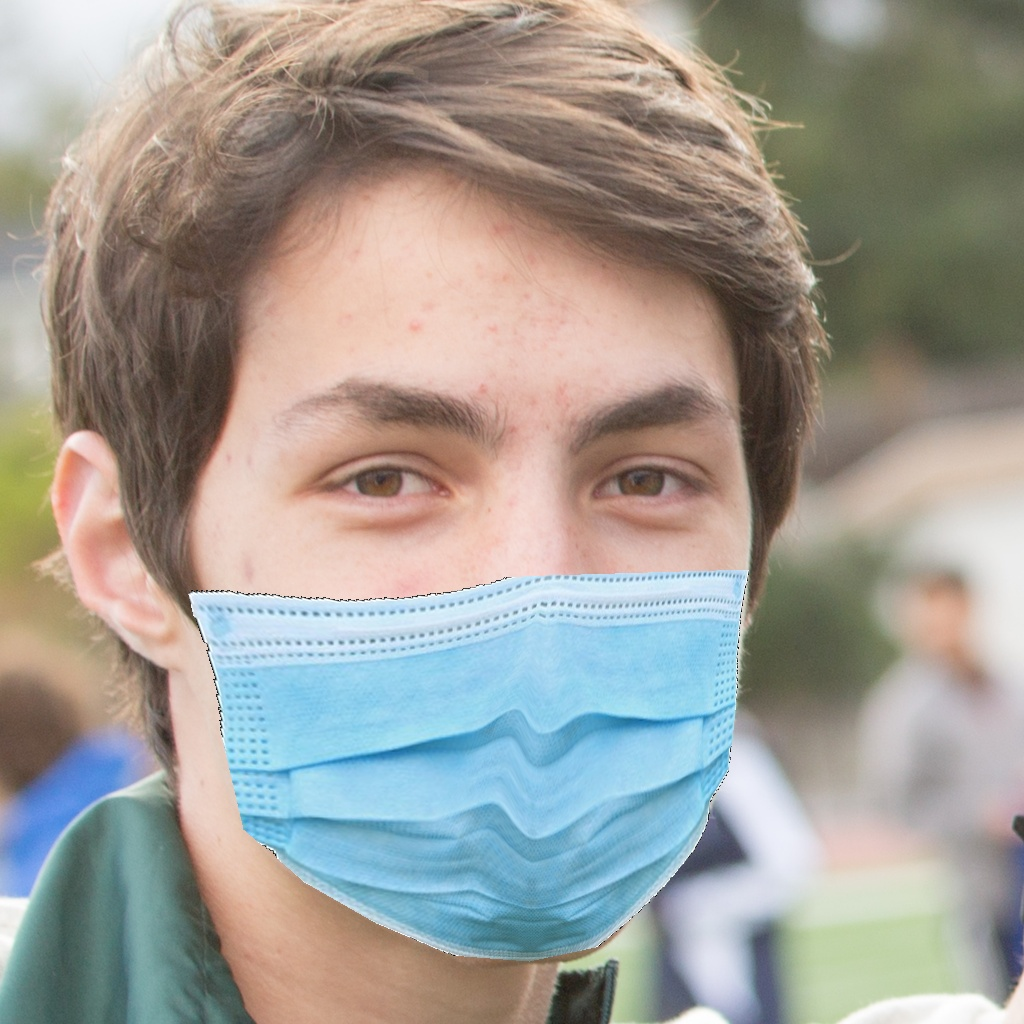with_mask: (208, 357, 751, 964)
